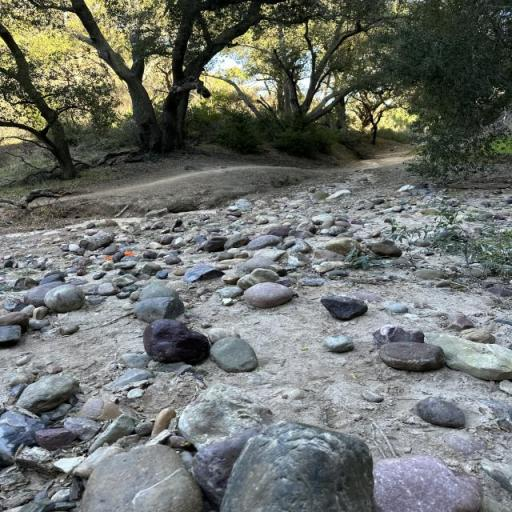mallet: (104, 252, 134, 260)
